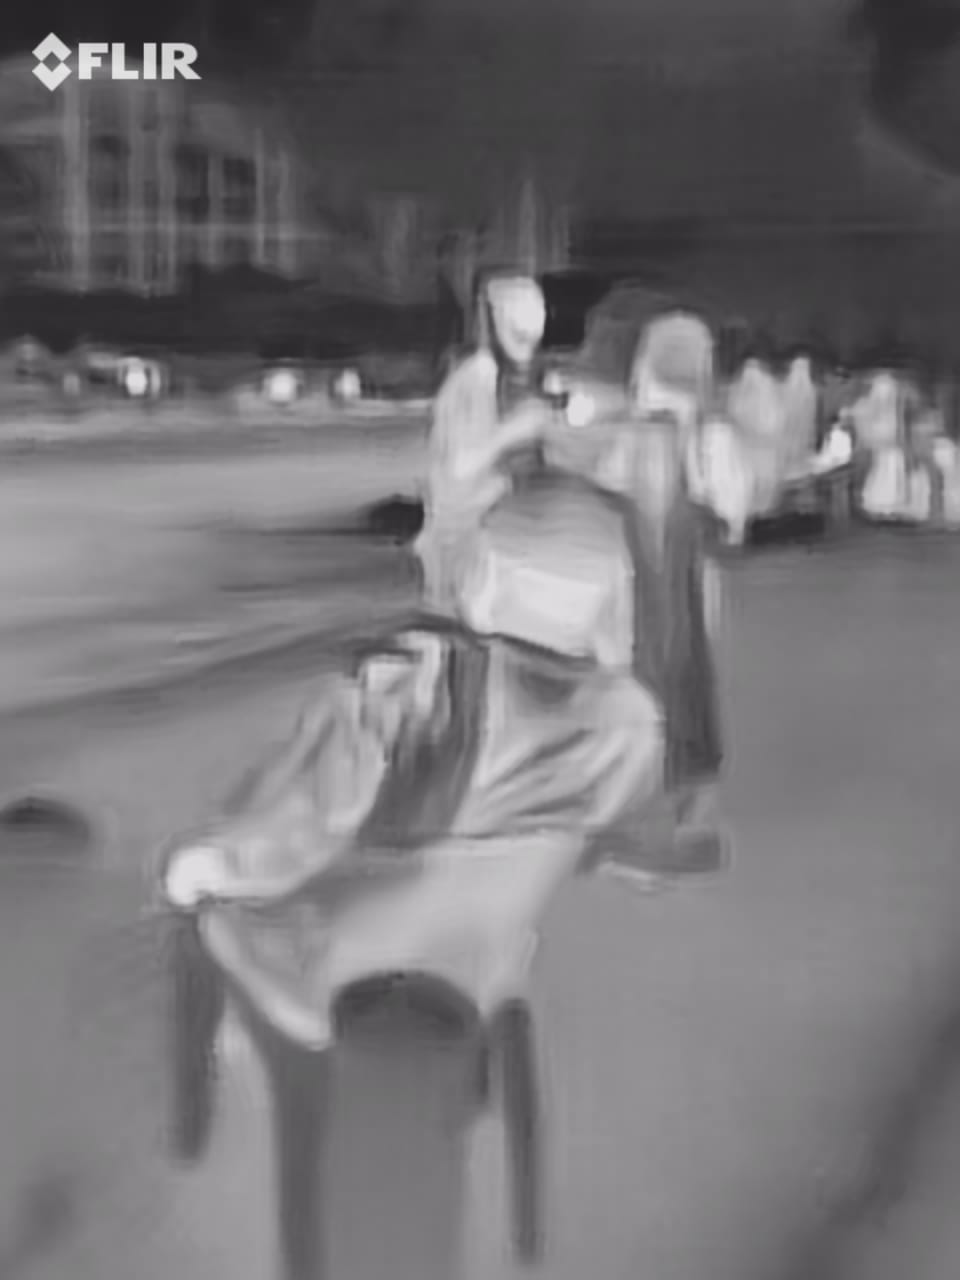head: (448, 475, 634, 646)
